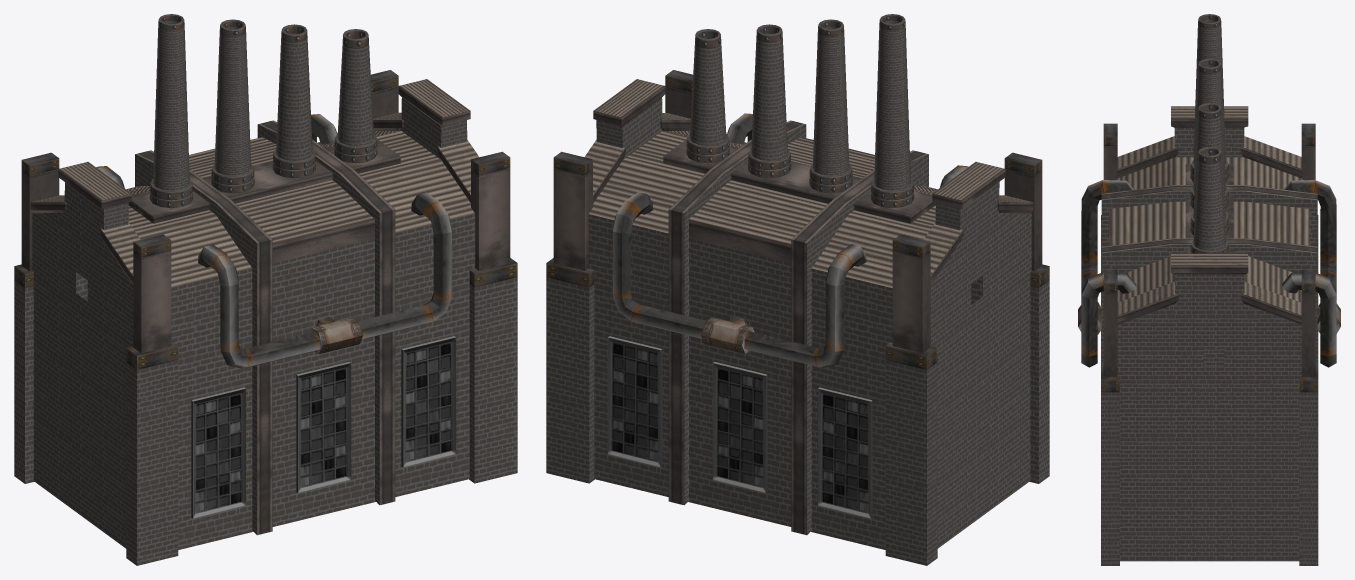
The model's file is factory_pipe_room_exterior.fbx.
3 renders of one model, left to right at view 1: azimuth 30°, elevation 25°; view 2: azimuth 150°, elevation 25°; view 3: azimuth 270°, elevation 25°, orthographic. The views are drawn at different scales.
Parts seen in each view (by area): view 1: Building, Smokestacks, Pipes; view 2: Building, Smokestacks, Pipes; view 3: Building, Pipes, Smokestacks.
Part boxes in pixels (<box>): Building: <box>14,70,517,565</box>; Smokestacks: <box>149,14,377,208</box>; Pipes: <box>96,114,451,368</box>; Building: <box>546,70,1049,565</box>; Smokestacks: <box>686,14,914,208</box>; Pipes: <box>612,113,968,367</box>; Building: <box>1101,106,1318,565</box>; Pipes: <box>1078,180,1340,367</box>; Smokestacks: <box>1190,14,1228,253</box>.
Size of the model in its own units: 8687 by 10433 by 5860.
